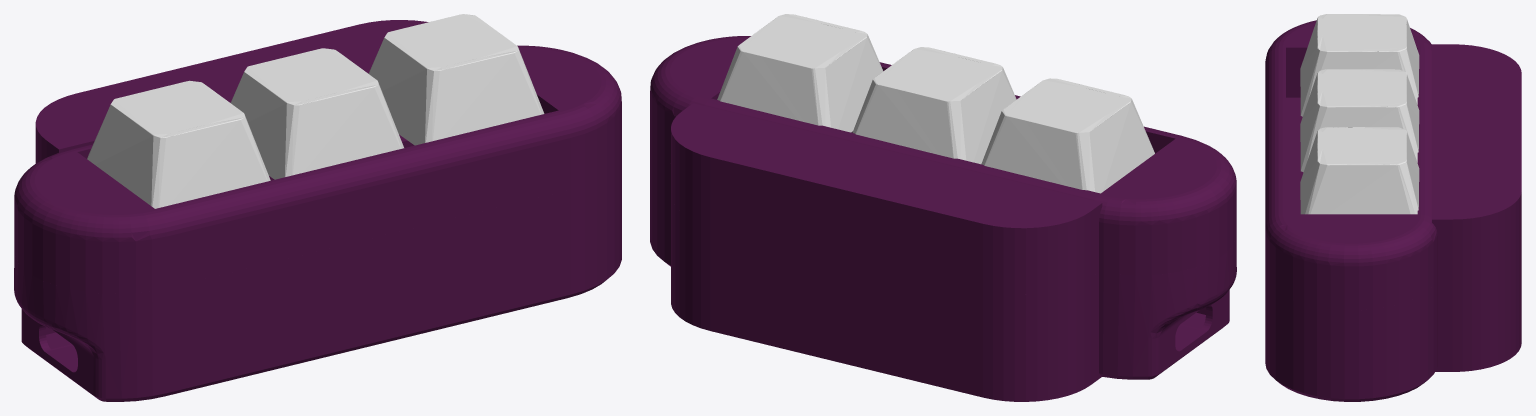
The model's file is geopad-optimized.glb.
3 renders of one model, left to right at view 1: azimuth 30°, elevation 25°; view 2: azimuth 150°, elevation 25°; view 3: azimuth 270°, elevation 25°, orthographic. The views are drawn at different scales.
Parts seen in each view (by area): view 1: 3DPrintTop, BottomFixed, Simple-CherryMX-Keycap, Simple-CherryMX-Keycap.002, Simple-CherryMX-Keycap.001; view 2: 3DPrintTop, BottomFixed, Simple-CherryMX-Keycap, Simple-CherryMX-Keycap.002, Simple-CherryMX-Keycap.001; view 3: 3DPrintTop, BottomFixed, Simple-CherryMX-Keycap.002, Simple-CherryMX-Keycap.001, Simple-CherryMX-Keycap.
Part boxes in pixels (box(x1,y1,x2,y2)): 3DPrintTop: box(14, 20, 621, 293); BottomFixed: box(14, 155, 621, 401); Simple-CherryMX-Keycap: box(87, 80, 270, 208); Simple-CherryMX-Keycap.002: box(368, 14, 544, 145); Simple-CherryMX-Keycap.001: box(230, 48, 403, 179); 3DPrintTop: box(650, 36, 1236, 295); BottomFixed: box(650, 141, 1236, 401); Simple-CherryMX-Keycap: box(981, 78, 1154, 193); Simple-CherryMX-Keycap.002: box(717, 14, 883, 132); Simple-CherryMX-Keycap.001: box(852, 47, 1016, 164); 3DPrintTop: box(1265, 20, 1521, 310); BottomFixed: box(1265, 251, 1521, 401); Simple-CherryMX-Keycap.002: box(1300, 127, 1419, 214); Simple-CherryMX-Keycap.001: box(1300, 69, 1419, 172); Simple-CherryMX-Keycap: box(1300, 14, 1419, 116).
Bounding box in the file's own units: 82.16 × 31.36 × 37.13.
